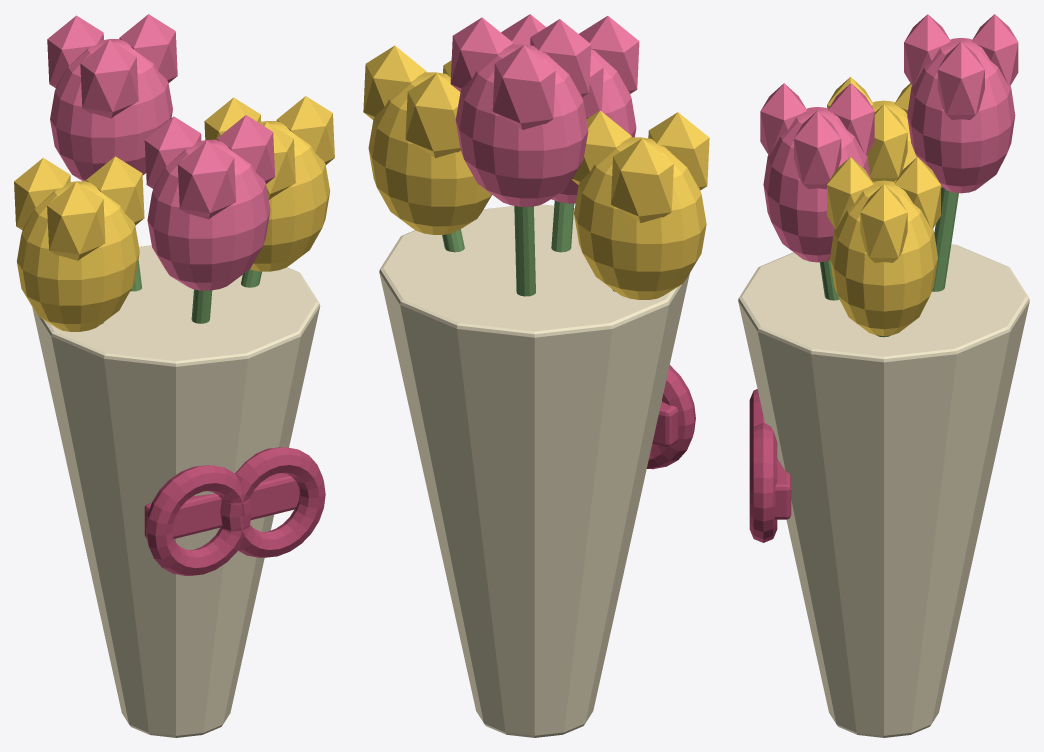
The model's file is P008_tulip_bouquet.glb.
3 views of the same model, side by side, from view 1: azimuth 30°, elevation 25°; view 2: azimuth 150°, elevation 25°; view 3: azimuth 270°, elevation 25° (orthographic). The views are drawn at different scales.
Parts seen in each view (by area): view 1: P008_paper_wrap_001, P008_bloom_003, P008_bloom_008, P008_bloom_018, P008_bow_023, P008_bow_024, P008_bloom_013, P008_petal_tip_006, P008_petal_tip_021, P008_petal_tip_011, P008_ribbon_022, P008_petal_tip_004 (+9 smaller); view 2: P008_paper_wrap_001, P008_bloom_003, P008_bloom_018, P008_bloom_013, P008_petal_tip_005, P008_petal_tip_020, P008_petal_tip_015, P008_petal_tip_019, P008_petal_tip_014, P008_petal_tip_021, P008_petal_tip_006, P008_petal_tip_011 (+8 smaller); view 3: P008_paper_wrap_001, P008_bloom_013, P008_bloom_018, P008_bloom_008, P008_bow_024, P008_petal_tip_014, P008_petal_tip_019, P008_petal_tip_009, P008_petal_tip_004, P008_petal_tip_020, P008_petal_tip_010, P008_petal_tip_011 (+6 smaller).
Boxes of the visible parts, left/top/right/bottom form: P008_paper_wrap_001: left=32, top=245, right=320, bottom=737; P008_bloom_003: left=16, top=181, right=139, bottom=331; P008_bloom_008: left=147, top=139, right=270, bottom=290; P008_bloom_018: left=50, top=39, right=172, bottom=181; P008_bow_023: left=145, top=465, right=251, bottom=575; P008_bow_024: left=220, top=447, right=325, bottom=557; P008_bloom_013: left=250, top=121, right=330, bottom=271; P008_petal_tip_006: left=47, top=182, right=105, bottom=260; P008_petal_tip_021: left=80, top=39, right=138, bottom=118; P008_petal_tip_011: left=177, top=141, right=235, bottom=219; P008_ribbon_022: left=144, top=473, right=299, bottom=538; P008_petal_tip_004: left=86, top=156, right=144, bottom=225; P008_paper_wrap_001: left=379, top=204, right=689, bottom=737; P008_bloom_003: left=574, top=137, right=706, bottom=299; P008_bloom_018: left=455, top=44, right=588, bottom=206; P008_bloom_013: left=368, top=72, right=491, bottom=234; P008_petal_tip_005: left=611, top=138, right=673, bottom=223; P008_petal_tip_020: left=492, top=45, right=555, bottom=129; P008_petal_tip_015: left=405, top=73, right=460, bottom=158; P008_petal_tip_019: left=450, top=17, right=513, bottom=91; P008_petal_tip_014: left=363, top=45, right=426, bottom=119; P008_petal_tip_021: left=530, top=19, right=591, bottom=97; P008_petal_tip_006: left=648, top=112, right=709, bottom=190; P008_petal_tip_011: left=579, top=16, right=639, bottom=93; P008_paper_wrap_001: left=738, top=244, right=1029, bottom=737; P008_bloom_013: left=830, top=180, right=937, bottom=335; P008_bloom_018: left=907, top=37, right=1015, bottom=193; P008_bloom_008: left=763, top=107, right=870, bottom=262; P008_bow_024: left=749, top=423, right=777, bottom=542; P008_petal_tip_014: left=860, top=184, right=907, bottom=262; P008_petal_tip_019: left=937, top=41, right=984, bottom=119; P008_petal_tip_009: left=794, top=110, right=841, bottom=189; P008_petal_tip_004: left=867, top=104, right=907, bottom=181; P008_petal_tip_020: left=971, top=14, right=1018, bottom=86; P008_petal_tip_010: left=828, top=83, right=874, bottom=155; P008_petal_tip_011: left=760, top=83, right=806, bottom=155.
Bounding box in the file's own units: 0.2346 × 0.486 × 0.1888.
